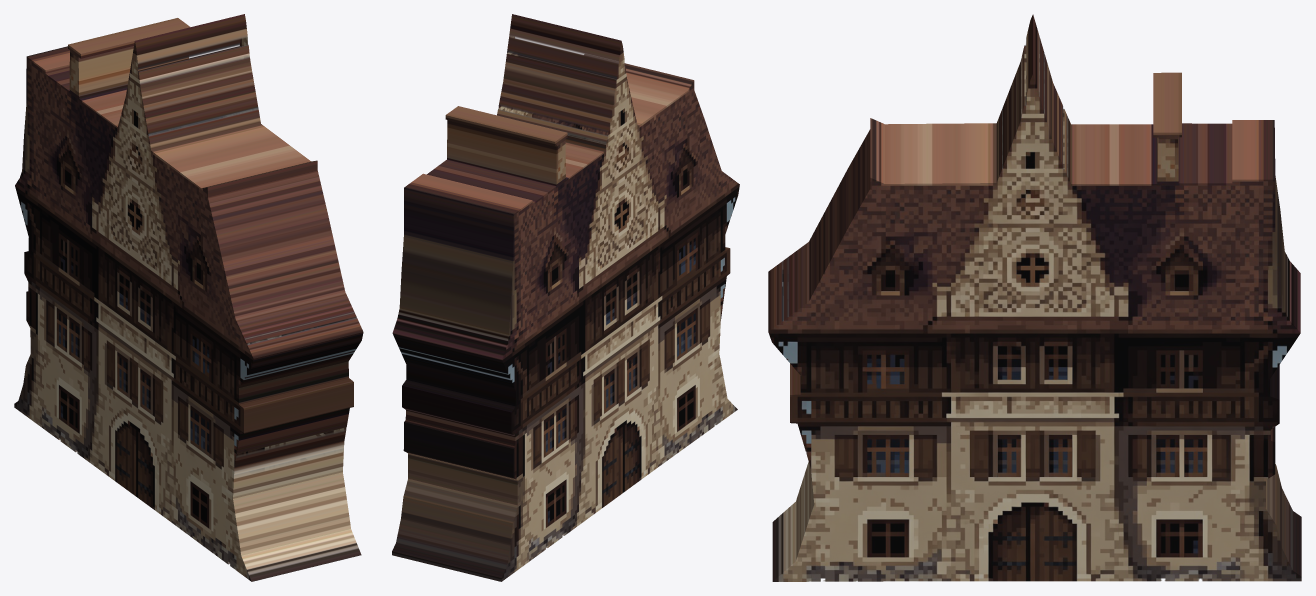
File: building_a.glb
The picture shows the model from 3 angles, left to right: view 1: azimuth 30°, elevation 25°; view 2: azimuth 150°, elevation 25°; view 3: azimuth 270°, elevation 25°; orthographic projection. The views are drawn at different scales.
Parts seen in each view (by area): view 1: building_d; view 2: building_d; view 3: building_d.
Boxes of the visible parts, x1,y1,x2,y2 form: building_d: [14, 14, 363, 581]; building_d: [392, 14, 739, 581]; building_d: [768, 14, 1301, 581].
Bounding box in the file's own units: 1.01 × 4.01 × 3.82.
Materials: 1 (1 with a texture image).
